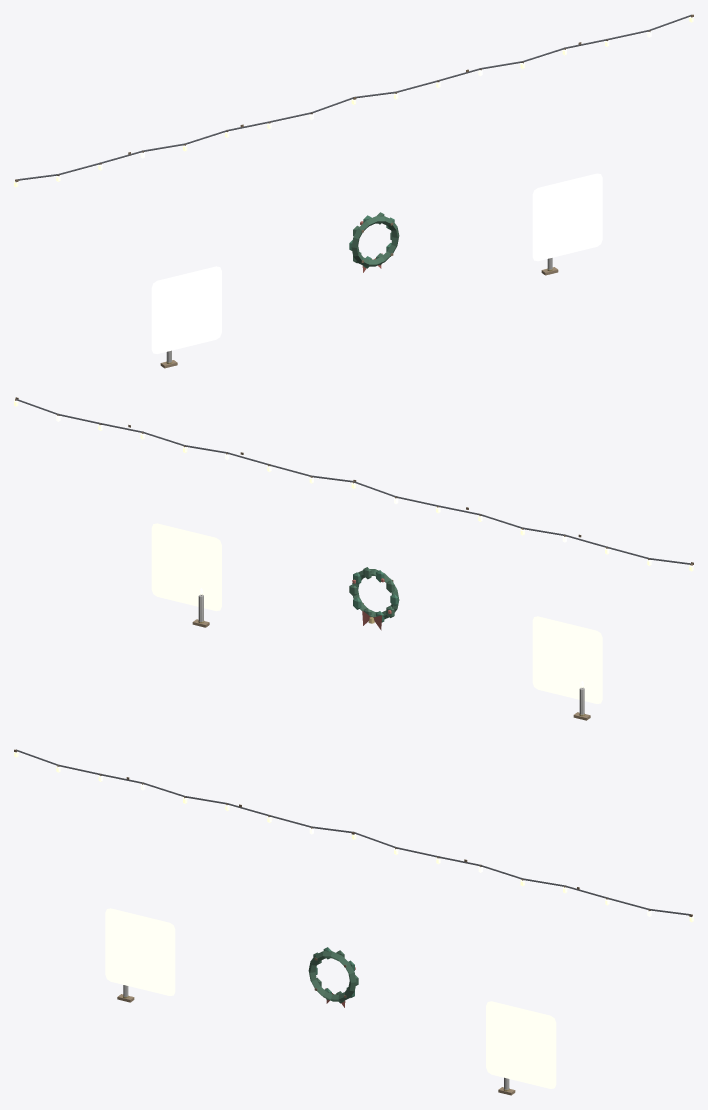
Rendered from house_dress_house.glb.
3 renders of one model, top to bottom at view 1: azimuth 30°, elevation 25°; view 2: azimuth 150°, elevation 25°; view 3: azimuth 330°, elevation 25°, orthographic.
Bounding box in the file's own units: 6.78 × 1.93 × 0.4276.
